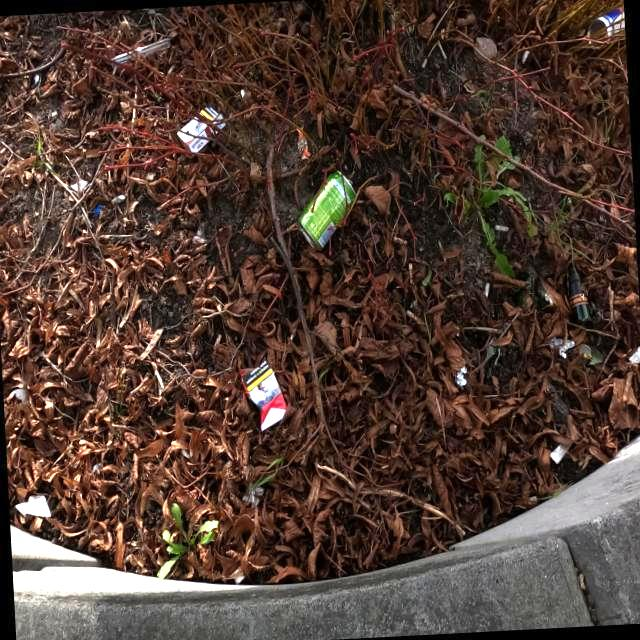Metal: (295, 168, 357, 250), (585, 9, 625, 49)
Paper: (237, 356, 289, 432), (175, 105, 227, 153)
Plastic: (294, 126, 312, 160)
